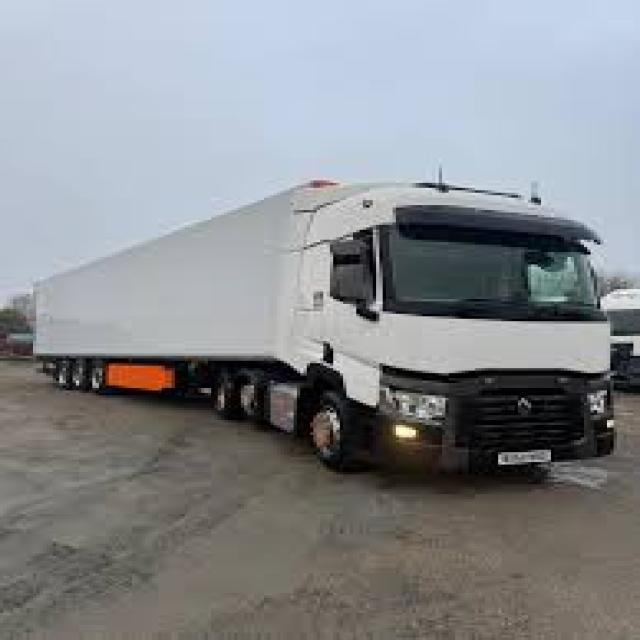covered: (26, 170, 617, 477)
